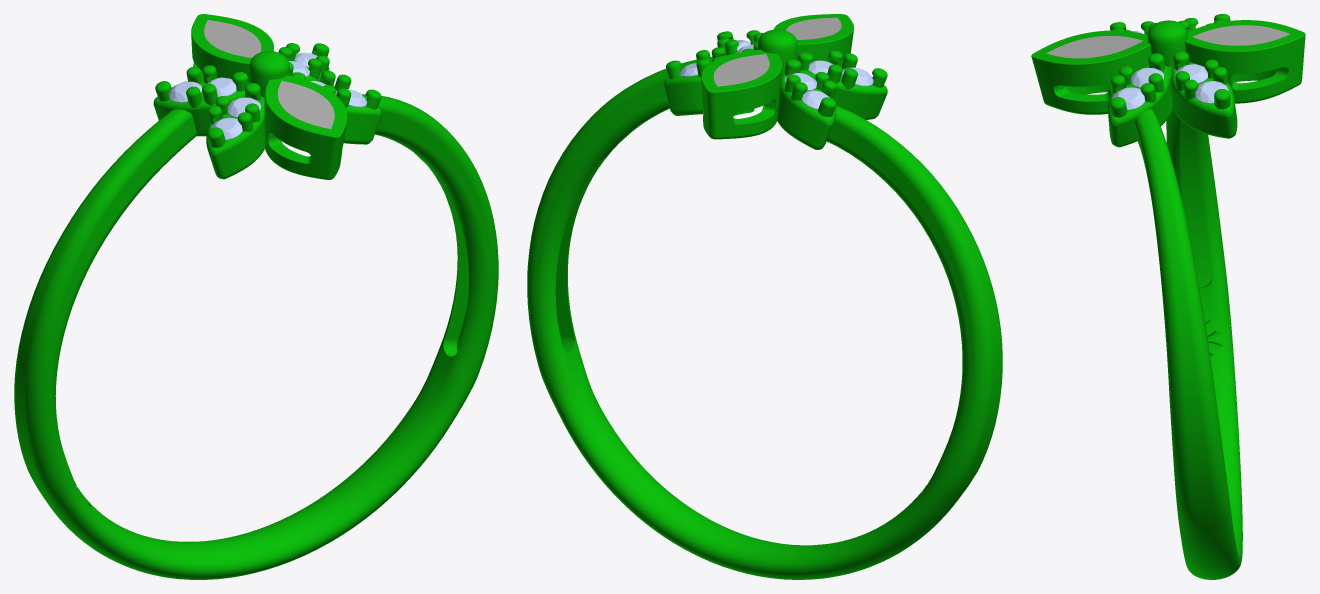
3 views of the same model, side by side, from view 1: azimuth 30°, elevation 25°; view 2: azimuth 150°, elevation 25°; view 3: azimuth 270°, elevation 25° (orthographic). The views are drawn at different scales.
Parts seen in each view (by area): view 1: A.3dm; view 2: A.3dm; view 3: A.3dm.
Part boxes in pixels (x1,y1,x2,y2): A.3dm: (14,14,498,579); A.3dm: (527,14,1002,579); A.3dm: (1031,14,1305,579).
Bounding box in the file's own units: 2.57 × 2.77 × 1.3.
